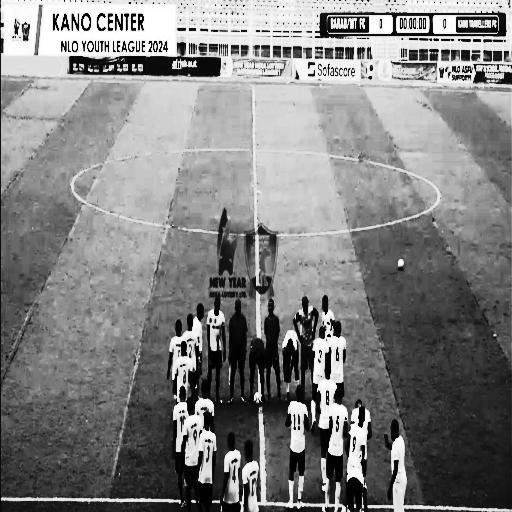ball: (252, 386, 263, 409)
keeper1: (298, 289, 315, 384)
keeper2: (196, 274, 204, 394)
referee: (224, 288, 281, 412)
team1: (281, 290, 376, 510)
team2: (155, 295, 227, 512)
